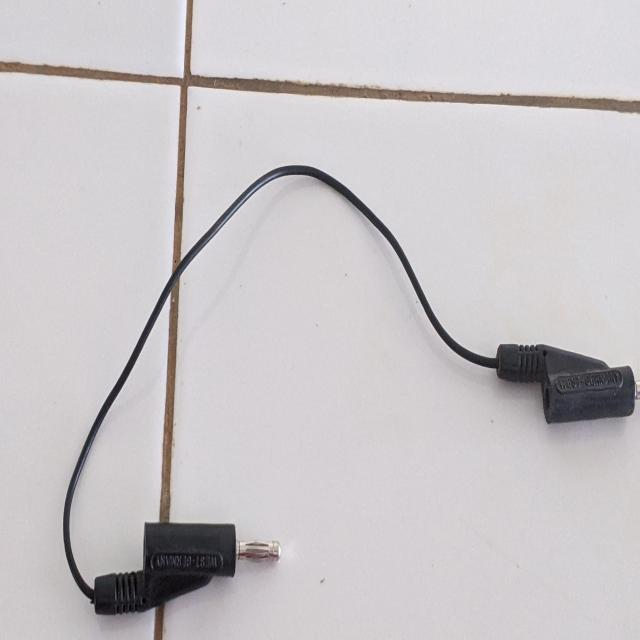BNC Cable: (41, 153, 634, 594)
